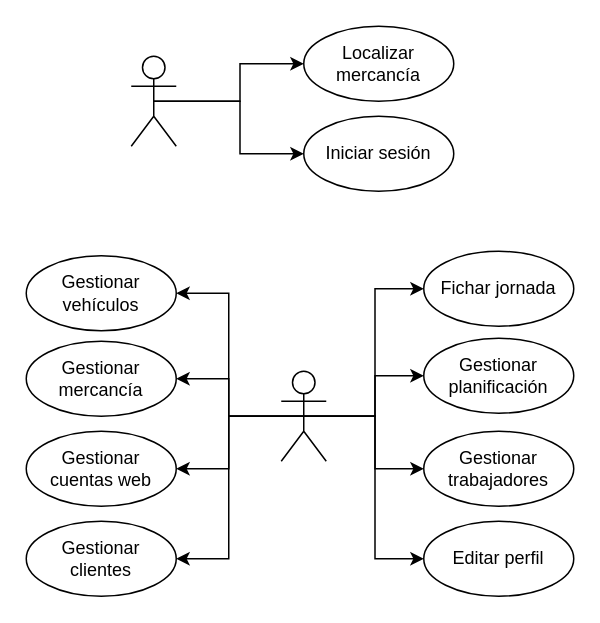
Image size: 600x623. Some labels were removed from this diagram. The box of each missing label's shape, as (x1, y1, x2, y2) in pixels:
Empleado: (280, 370, 326, 461)
Usuario: (130, 55, 176, 146)
